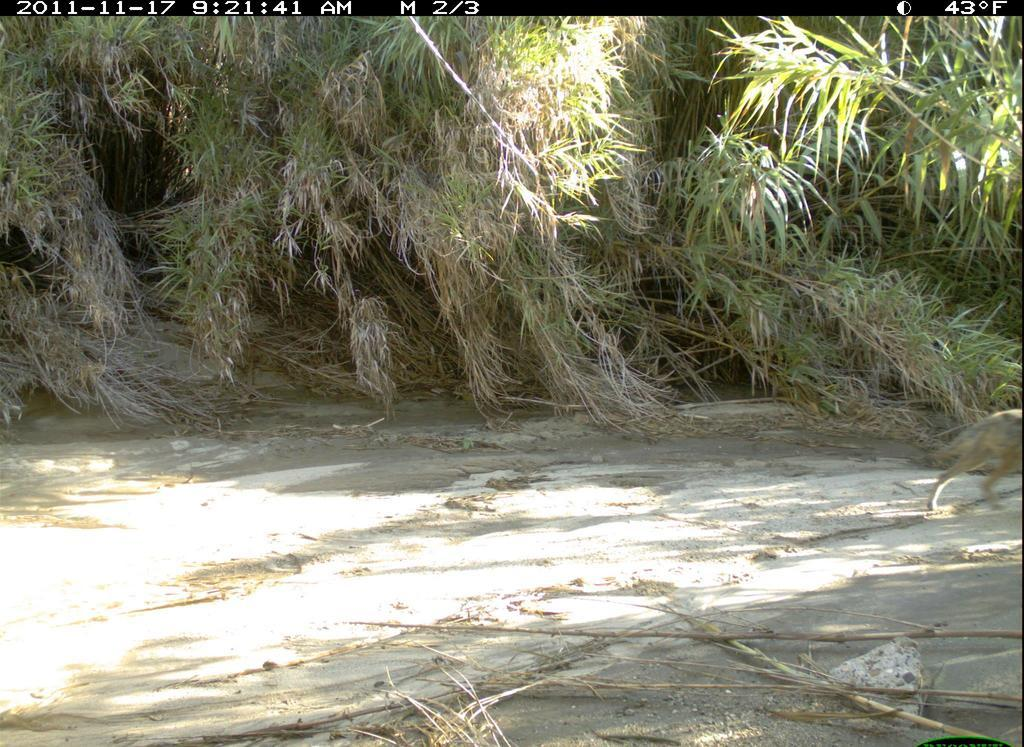coyote: (923, 401, 1023, 528)
